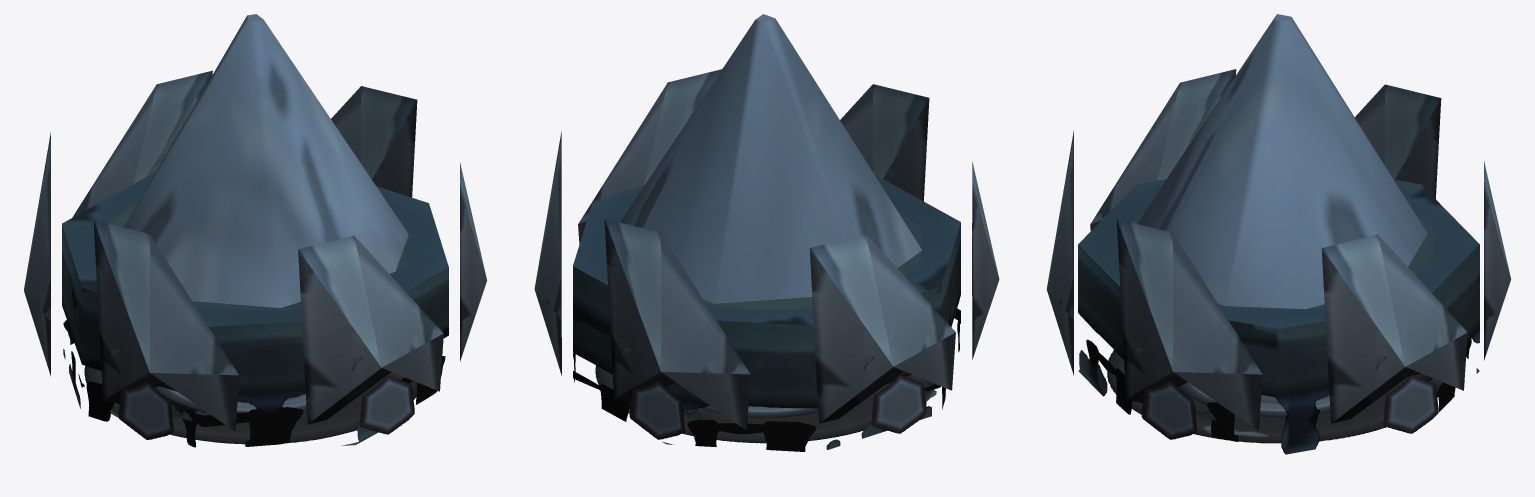
Rendered from obj_powertools_drill_lod2.fbx.
The picture shows the model from 3 angles, left to right: view 1: azimuth 30°, elevation 25°; view 2: azimuth 150°, elevation 25°; view 3: azimuth 270°, elevation 25°; orthographic projection.
Visible parts, largest first — view 1: polySurface15; view 2: polySurface15; view 3: polySurface15.
Part boxes in pixels (left/top/right/bottom): polySurface15: left=24, top=14, right=486, bottom=447; polySurface15: left=534, top=14, right=999, bottom=451; polySurface15: left=1046, top=14, right=1511, bottom=454.
Bounding box in the file's own units: 3.68 × 3.01 × 3.64.
Materials: 1 (1 with a texture image).
